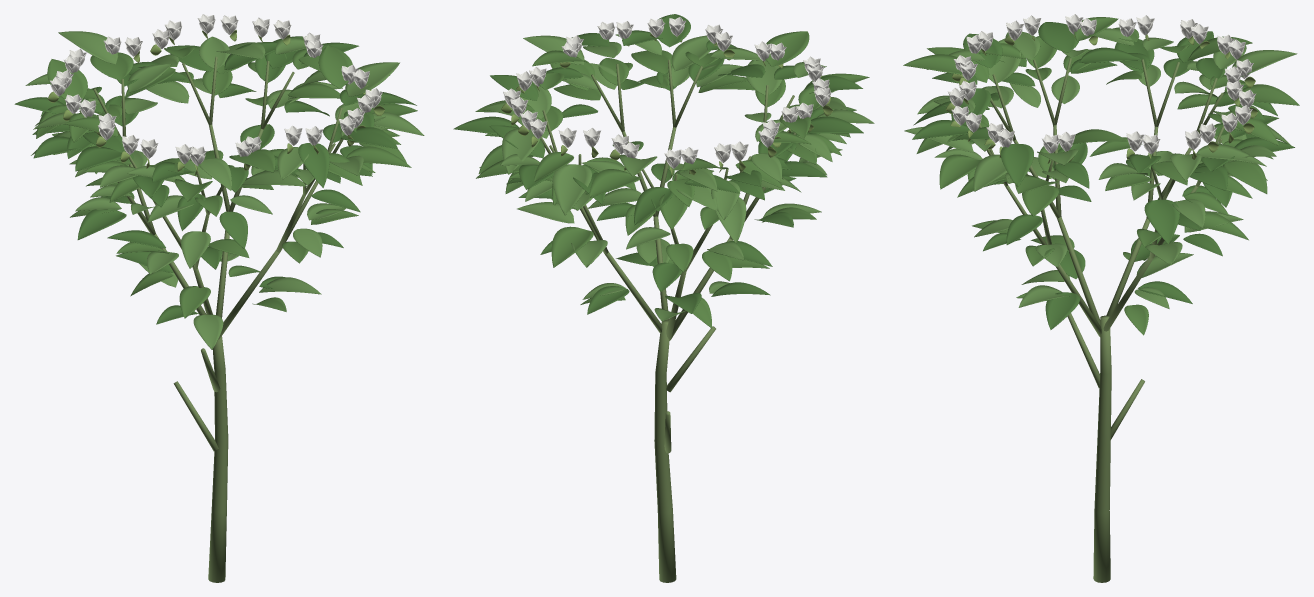
The model's file is pepper_plant.glb.
3 views of the same model, side by side, from view 1: azimuth 30°, elevation 25°; view 2: azimuth 150°, elevation 25°; view 3: azimuth 270°, elevation 25° (orthographic).
Parts seen in each view (by area): view 1: pepper_plant, pepper_plant_stem; view 2: pepper_plant, pepper_plant_stem; view 3: pepper_plant, pepper_plant_stem.
Boxes of the visible parts, x1,y1,x2,y2 form: pepper_plant: [14, 14, 424, 451]; pepper_plant_stem: [208, 336, 228, 582]; pepper_plant: [453, 14, 874, 453]; pepper_plant_stem: [654, 320, 676, 582]; pepper_plant: [903, 14, 1299, 439]; pepper_plant_stem: [1093, 315, 1111, 582].
Bounding box in the file's own units: 0.814 × 1.15 × 0.8246.
